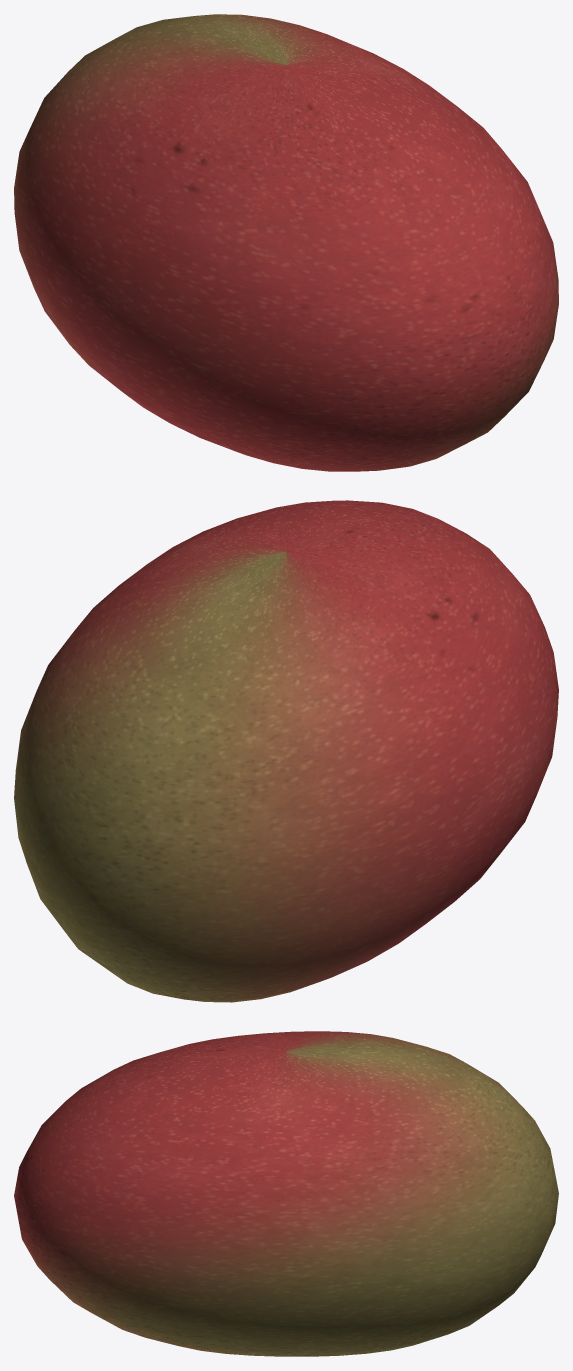
The model's file is mango.fbx.
The picture shows the model from 3 angles, top to bottom: view 1: azimuth 30°, elevation 25°; view 2: azimuth 150°, elevation 25°; view 3: azimuth 270°, elevation 25°; orthographic projection. The views are drawn at different scales.
Visible parts, largest first — view 1: Kiwi; view 2: Kiwi; view 3: Kiwi.
Part boxes in pixels (x1,y1,x2,y2): Kiwi: [14, 14, 558, 471]; Kiwi: [14, 500, 558, 1002]; Kiwi: [14, 1031, 558, 1356].
Bounding box in the file's own units: 229 × 197 × 338.
Materials: 1 (1 with a texture image).
